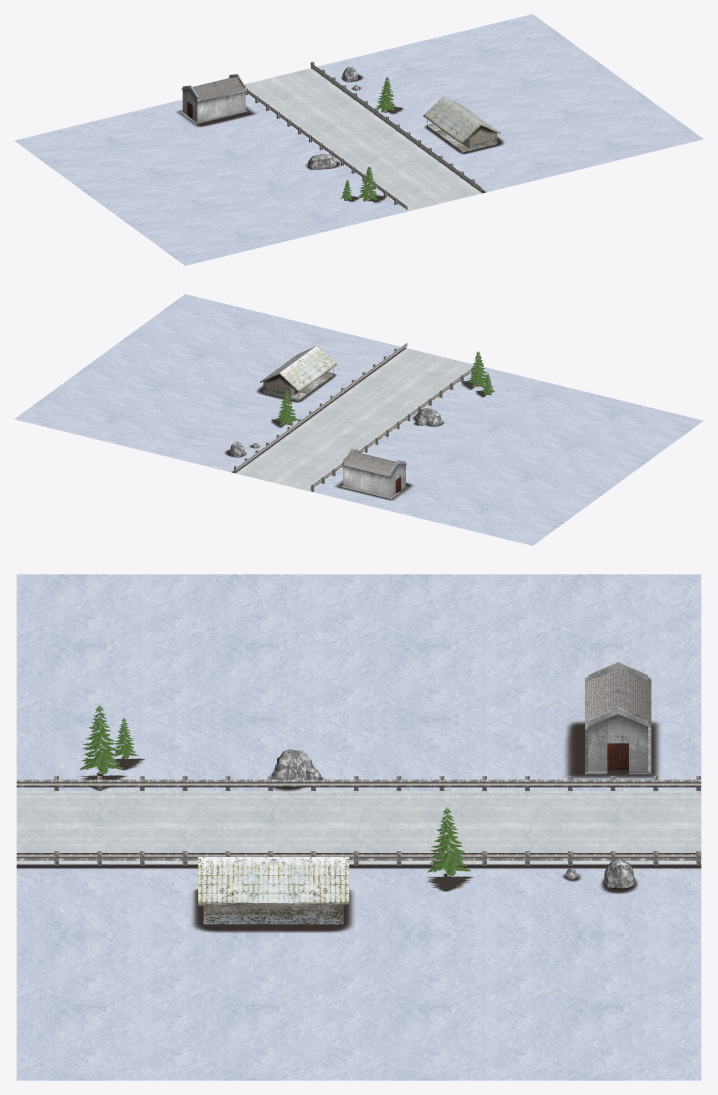
The picture shows the model from 3 angles, top to bottom: view 1: azimuth 30°, elevation 25°; view 2: azimuth 150°, elevation 25°; view 3: azimuth 270°, elevation 25°; orthographic projection. The views are drawn at different scales.
Visible parts, largest first — view 1: scene3, road010, Box050, Box051, Box042, rock006; view 2: scene3, road010, Box050, Box051, Box042, rock006; view 3: scene3, road010, Box050, Box051, Box042, rock006.
Boxes of the visible parts, bbox=[...] form: scene3: bbox=[14, 14, 703, 265]; road010: bbox=[245, 61, 481, 211]; Box050: bbox=[423, 96, 500, 152]; Box051: bbox=[180, 74, 247, 124]; Box042: bbox=[340, 77, 395, 201]; rock006: bbox=[307, 67, 359, 169]; scene3: bbox=[14, 294, 703, 545]; road010: bbox=[234, 343, 481, 491]; Box050: bbox=[260, 345, 337, 401]; Box051: bbox=[340, 449, 408, 499]; Box042: bbox=[276, 351, 494, 425]; rock006: bbox=[230, 408, 442, 457]; scene3: bbox=[16, 574, 701, 1080]; road010: bbox=[16, 776, 701, 865]; Box050: bbox=[198, 857, 349, 924]; Box051: bbox=[585, 661, 651, 774]; Box042: bbox=[80, 705, 470, 876]; rock006: bbox=[272, 749, 635, 888].
Bounding box in the file's own units: 140 × 9.36 × 80.
